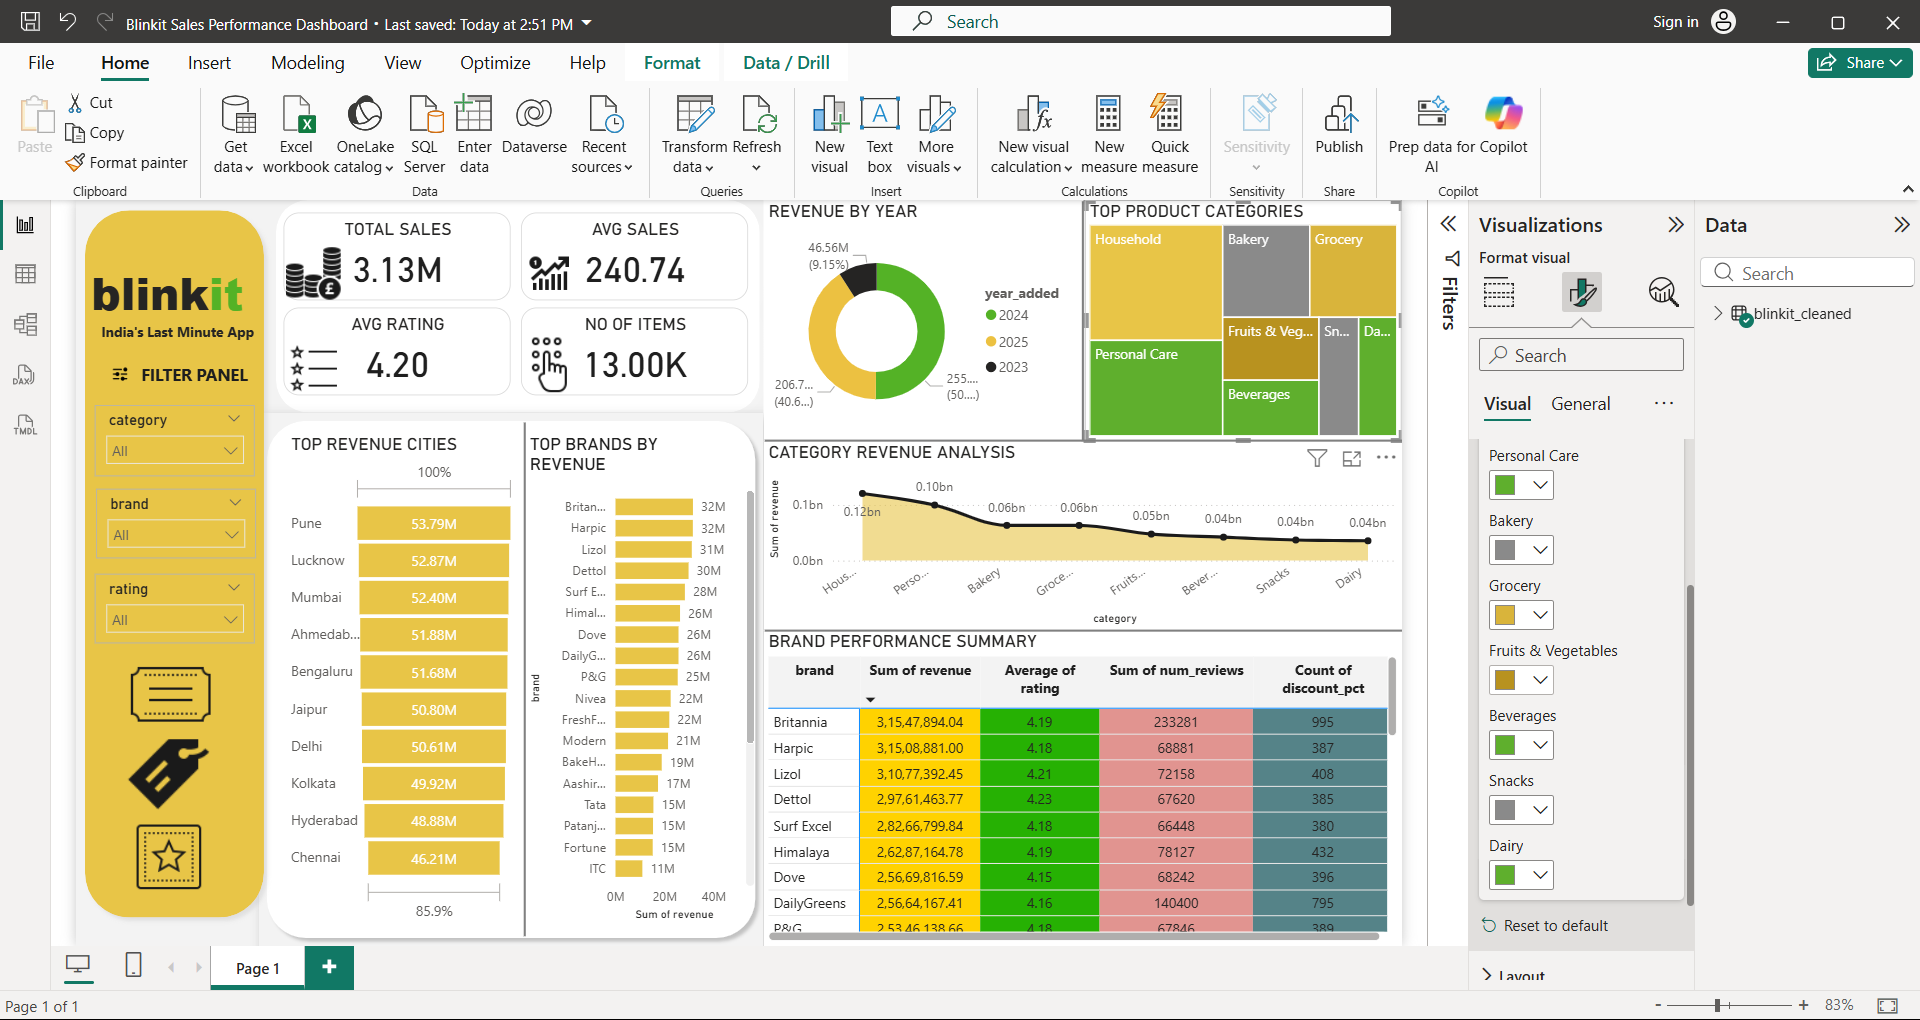

This screenshot's page, from the dashboard's own definition file:
{"tool":"powerbi","page":{"name":"Page 1","canvas":[1280,720],"ordinal":0},"visuals":[{"type":"shape","box":[193,0,466.9,205.1],"z":0},{"type":"shape","box":[176.1,205.1,487.4,515.2],"z":1000},{"type":"shape","box":[0,1.2,190,700],"z":2000},{"type":"card","title":"TOTAL SALES","fields":{"Values":["Sum(blinkit_cleaned.final_price)"]},"box":[200.3,12.1,219.6,84.5],"z":3000},{"type":"card","title":"AVG SALES","fields":{"Values":["Avg(blinkit_cleaned.final_price)"]},"box":[429.5,12.1,219.6,84.5],"z":4000},{"type":"card","title":"AVG RATING","fields":{"Values":["Avg(blinkit_cleaned.rating)"]},"box":[200.3,103.8,219.6,84.5],"z":5000},{"type":"card","title":"NO OF ITEMS","fields":{"Values":["CountNonNull(blinkit_cleaned.product_id)"]},"box":[429.5,103.8,219.6,84.5],"z":6000},{"type":"textbox","box":[57.9,152,126.7,43.4],"z":7000},{"type":"slicer","fields":{"Values":["blinkit_cleaned.category"]},"box":[18.1,197.9,154.4,68.8],"z":8000},{"type":"slicer","fields":{"Values":["blinkit_cleaned.brand"]},"box":[19.3,278.7,154.4,67.6],"z":9000},{"type":"slicer","fields":{"Values":["blinkit_cleaned.rating"]},"box":[18.1,360.7,154.4,67.6],"z":10000},{"type":"areaChart","title":"CATEGORY REVENUE ANALYSIS","fields":{"Category":["blinkit_cleaned.category"],"Y":["Sum(blinkit_cleaned.revenue)"]},"box":[663.5,232.8,616.5,182.2],"z":11000},{"type":"donutChart","title":"REVENUE BY YEAR","fields":{"Y":["Sum(blinkit_cleaned.revenue)"],"Category":["blinkit_cleaned.year_added"]},"box":[663.5,0,308.8,232.8],"z":12000},{"type":"clusteredBarChart","title":"TOP BRANDS BY REVENUE","fields":{"Y":["Sum(blinkit_cleaned.revenue)"],"Category":["blinkit_cleaned.brand"]},"box":[433.1,225.6,226.8,475.3],"z":13000},{"type":"treemap","title":"TOP PRODUCT CATEGORIES","fields":{"Group":["blinkit_cleaned.category"],"Values":["Sum(blinkit_cleaned.revenue)"]},"box":[973.6,0,306.4,232.8],"z":14000},{"type":"pivotTable","title":"BRAND PERFORMANCE SUMMARY","fields":{"Rows":["blinkit_cleaned.brand"],"Values":["Sum(blinkit_cleaned.revenue)","Avg(blinkit_cleaned.rating)","Sum(blinkit_cleaned.num_reviews)","CountNonNull(blinkit_cleaned.discount_pct)"]},"box":[663.5,415,616.5,305.2],"z":15000},{"type":"funnel","title":"TOP REVENUE CITIES","fields":{"Y":["Sum(blinkit_cleaned.revenue)"],"Category":["blinkit_cleaned.city"]},"box":[202.7,225.6,226.8,475.3],"z":16000},{"type":"textbox","box":[19.3,113.4,165.3,38.6],"z":17000},{"type":"textbox","box":[9.7,54.3,193,97.7],"z":18000},{"type":"image","box":[27.7,160.5,30.2,15],"z":19000},{"type":"shape","box":[951.9,1.2,39.8,231.6],"z":20000},{"type":"shape","box":[664.7,214.7,615.3,35],"z":21000},{"type":"shape","box":[413.8,214.7,38.6,495.8],"z":22000},{"type":"shape","box":[664.7,398.1,615.3,35],"z":23000},{"type":"image","box":[43.4,433.1,96.5,88.1],"z":24000},{"type":"image","box":[424.7,49.5,62.7,42.2],"z":25000},{"type":"image","box":[18.1,511.5,142.4,80.8],"z":26000},{"type":"image","box":[424.7,132.7,62.7,53.1],"z":27000},{"type":"image","box":[202.7,43.4,53.1,53.1],"z":28000},{"type":"image","box":[9.7,592.4,160.5,83.2],"z":29000},{"type":"image","box":[199.1,139.9,60.3,45.8],"z":30000}]}

Visuals, with their boxes on the page's 1280x720 design canvas (x1, y1, x2, y2). These are canvas units, not pixel positions in the 1920x1020 screenshot, which may show the page scaled, cropped or inside an application window:
shape: [193,0,660,205]
shape: [176,205,664,720]
shape: [0,1,190,701]
"TOTAL SALES" card: [200,12,420,97]
"AVG SALES" card: [430,12,649,97]
"AVG RATING" card: [200,104,420,188]
"NO OF ITEMS" card: [430,104,649,188]
textbox: [58,152,185,195]
slicer - blinkit_cleaned.category: [18,198,172,267]
slicer - blinkit_cleaned.brand: [19,279,174,346]
slicer - blinkit_cleaned.rating: [18,361,172,428]
"CATEGORY REVENUE ANALYSIS" areaChart: [664,233,1280,415]
"REVENUE BY YEAR" donutChart: [664,0,972,233]
"TOP BRANDS BY REVENUE" clusteredBarChart: [433,226,660,701]
"TOP PRODUCT CATEGORIES" treemap: [974,0,1280,233]
"BRAND PERFORMANCE SUMMARY" pivotTable: [664,415,1280,720]
"TOP REVENUE CITIES" funnel: [203,226,430,701]
textbox: [19,113,185,152]
textbox: [10,54,203,152]
image: [28,160,58,176]
shape: [952,1,992,233]
shape: [665,215,1280,250]
shape: [414,215,452,710]
shape: [665,398,1280,433]
image: [43,433,140,521]
image: [425,50,487,92]
image: [18,512,160,592]
image: [425,133,487,186]
image: [203,43,256,96]
image: [10,592,170,676]
image: [199,140,259,186]
